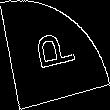P_W: (31, 31, 79, 79)
